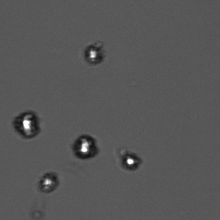Living Cell: (13, 107, 42, 141), (70, 131, 100, 160), (35, 170, 63, 194), (118, 148, 144, 173), (83, 43, 105, 64)
